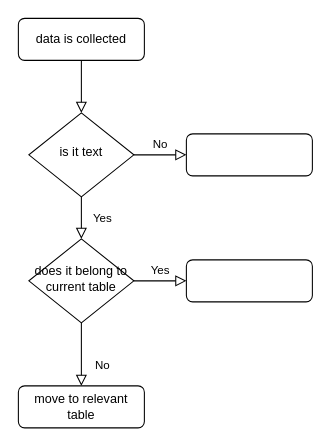
Image size: 331x446. Some labels were removed from this diagram. The shapes that lost their labels are listed below. From the top down, each one's centre as x and y in pixels, then its label:
At point 248,154: "delete".
At point 248,280: "add to table".
